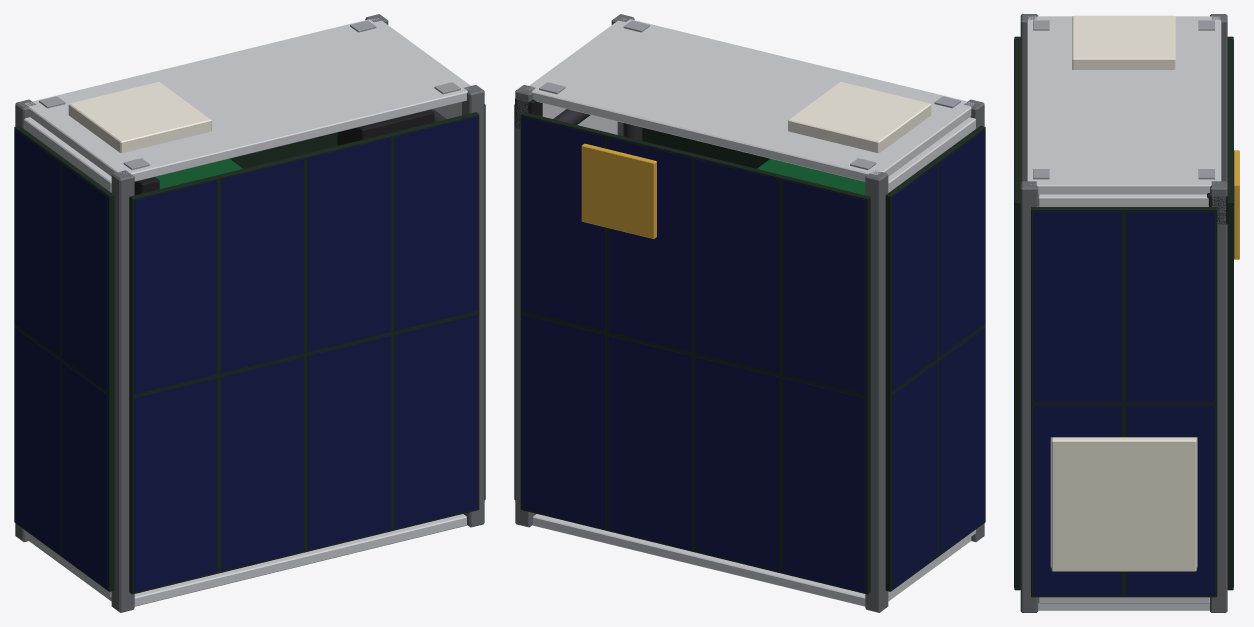
The model's file is TIGRE_Mother_2x2U.glb.
3 renders of one model, left to right at view 1: azimuth 30°, elevation 25°; view 2: azimuth 150°, elevation 25°; view 3: azimuth 270°, elevation 25°, orthographic. The views are drawn at different scales.
Visible parts, largest first — view 1: TGR-M-PWR-002 Solar panel -y (cells), TGR-M-PWR-006 Solar panel -x (cells), TGR-M-STR-008 Outer end plate, TGR-M-PWR-001 Solar panel -y, TGR-M-STR-001 Rail -x-y, TGR-M-PLD-002 GNSS patch antenna, TGR-M-PWR-005 Solar panel -x, TGR-M-STR-007 Separation plate, TGR-M-STR-003 Rail +x-y, TGR-M-STR-005 Side wall -x, TGR-M-PWR-003 Solar panel +y, TGR-M-ADC-006 Sun sensors and IMU (+2 smaller); view 2: TGR-M-PWR-004 Solar panel +y (cells), TGR-M-PWR-006 Solar panel -x (cells), TGR-M-STR-008 Outer end plate, TGR-M-PWR-003 Solar panel +y, TGR-M-STR-002 Rail -x+y, TGR-M-PLD-002 GNSS patch antenna, TGR-M-PLD-005 Langmuir probe sensor (ram face), TGR-M-PWR-005 Solar panel -x, TGR-M-STR-007 Separation plate, TGR-M-STR-004 Rail +x+y, TGR-M-STR-005 Side wall -x, TGR-M-PWR-001 Solar panel -y (+3 smaller); view 3: TGR-M-PWR-008 Solar panel +x (cells), TGR-M-STR-008 Outer end plate, TGR-M-AVI-011 S-band patch antenna, TGR-M-PLD-002 GNSS patch antenna, TGR-M-PWR-007 Solar panel +x, TGR-M-STR-003 Rail +x-y, TGR-M-STR-004 Rail +x+y, TGR-M-STR-006 Side wall +x, TGR-M-PWR-001 Solar panel -y, TGR-M-PWR-003 Solar panel +y, TGR-M-STR-001 Rail -x-y, TGR-M-STR-002 Rail -x+y (+5 smaller).
Boxes of the visible parts, x1,y1,x2,y2 form: TGR-M-PWR-002 Solar panel -y (cells): (134, 116, 477, 592); TGR-M-PWR-006 Solar panel -x (cells): (14, 129, 107, 589); TGR-M-STR-008 Outer end plate: (25, 18, 470, 181); TGR-M-PWR-001 Solar panel -y: (129, 112, 479, 594); TGR-M-STR-001 Rail -x-y: (111, 170, 134, 612); TGR-M-PLD-002 GNSS patch antenna: (68, 82, 211, 153); TGR-M-PWR-005 Solar panel -x: (14, 125, 114, 591); TGR-M-STR-007 Separation plate: (28, 514, 467, 606); TGR-M-STR-003 Rail +x-y: (462, 85, 484, 527); TGR-M-STR-005 Side wall -x: (24, 117, 111, 596); TGR-M-PWR-003 Solar panel +y: (230, 132, 337, 168); TGR-M-ADC-006 Sun sensors and IMU: (337, 109, 434, 145); TGR-M-PWR-004 Solar panel +y (cells): (522, 116, 865, 592); TGR-M-PWR-006 Solar panel -x (cells): (892, 129, 985, 589); TGR-M-STR-008 Outer end plate: (527, 17, 974, 181); TGR-M-PWR-003 Solar panel +y: (520, 112, 870, 594); TGR-M-STR-002 Rail -x+y: (865, 170, 888, 612); TGR-M-PLD-002 GNSS patch antenna: (788, 82, 931, 153); TGR-M-PLD-005 Langmuir probe sensor (ram face): (581, 143, 656, 238); TGR-M-PWR-005 Solar panel -x: (885, 125, 985, 591); TGR-M-STR-007 Separation plate: (532, 514, 971, 606); TGR-M-STR-004 Rail +x+y: (515, 85, 536, 527); TGR-M-STR-005 Side wall -x: (888, 117, 975, 596); TGR-M-PWR-001 Solar panel -y: (642, 127, 769, 168); TGR-M-PWR-008 Solar panel +x (cells): (1033, 211, 1214, 595); TGR-M-STR-008 Outer end plate: (1027, 16, 1221, 194); TGR-M-AVI-011 S-band patch antenna: (1051, 437, 1196, 571); TGR-M-PLD-002 GNSS patch antenna: (1072, 15, 1175, 69); TGR-M-PWR-007 Solar panel +x: (1031, 207, 1217, 597); TGR-M-STR-003 Rail +x-y: (1020, 181, 1038, 612); TGR-M-STR-004 Rail +x+y: (1210, 181, 1227, 612); TGR-M-STR-006 Side wall +x: (1038, 194, 1209, 603); TGR-M-PWR-001 Solar panel -y: (1014, 36, 1020, 590); TGR-M-PWR-003 Solar panel +y: (1227, 36, 1233, 590); TGR-M-STR-001 Rail -x-y: (1020, 14, 1038, 182); TGR-M-STR-002 Rail -x+y: (1210, 14, 1227, 182).
Bounding box in the file's own units: 209 × 233 × 109.
